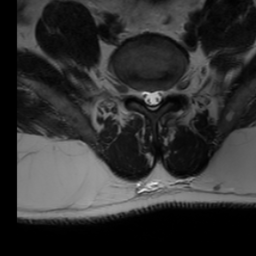CCS_stenosis: (149, 81, 157, 116)
LFS_normal: (165, 79, 175, 104)
LLS_normal: (157, 81, 165, 110)
RFS_normal: (132, 79, 140, 106)
RLS_normal: (140, 81, 149, 109)
